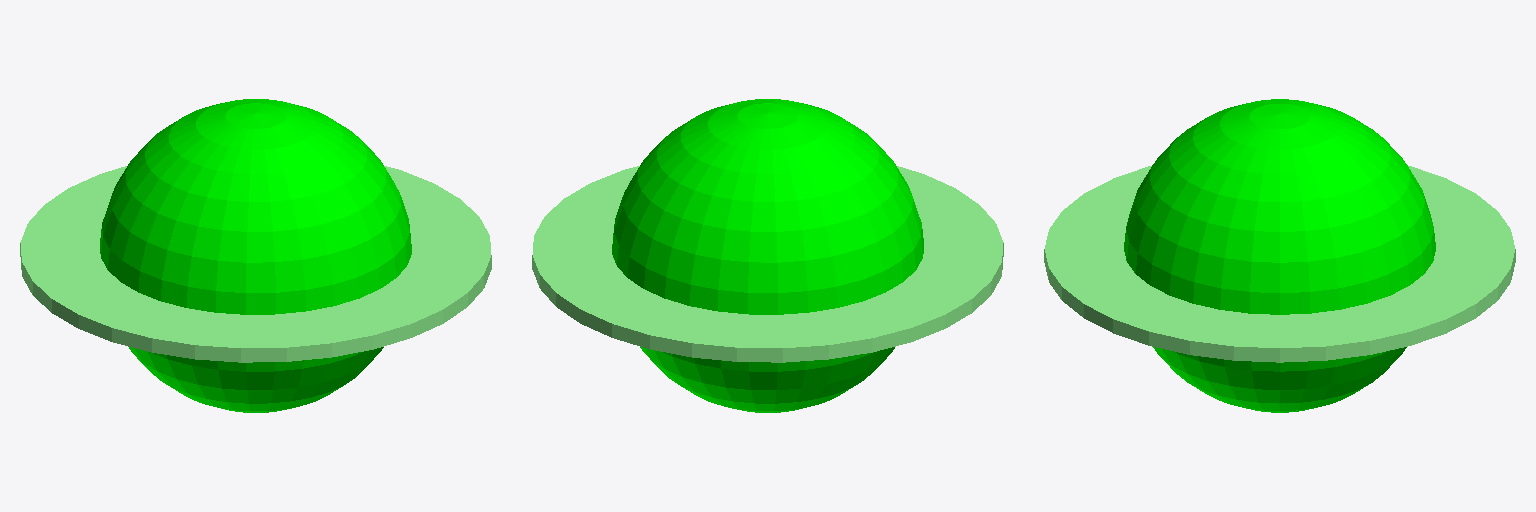
The robot description file, URDF, robot "agv1_robot":
<?xml version="1.0" ?>

<robot name="agv1_robot" xmlns:xacro="http://www.ros.org/wiki/xacro">

    <!-- Định nghĩa các màu sắc cho AGV -->
    <material name="green">
        <color rgba="0 1 0 1"/>
    </material>

    <material name="red">
        <color rgba="1 0 0 1"/>
    </material>

    <material name="blue">
        <color rgba="0 0 1 1"/>
    </material>

    <material name="orange">
        <color rgba="1.0 0.42 0.04 1.0"/>
    </material>

    <material name="palegreen">
        <color rgba="0.596 0.98 0.596 1.0"/>
    </material>

    <material name="skyblue">
        <color rgba="0.53 0.81 0.92 1.0"/>
    </material>    

    <material name="salmonred">
        <color rgba="0.98 0.5 0.447 1.0"/>
    </material>

    <material name="bisque_orange">
        <color rgba="1 0.894 0.767 1.0"/>
    </material>

    <!-- Mô tả AGV1 -->
    <link name="frame_robot">
        <visual>
            <geometry>
                <sphere radius="0.2"/>
            </geometry>

            <material name="green"/>
        </visual>
    </link>
    
    <link name="agv1_safety">
        <visual>
            <geometry>
                <cylinder length="0.02" radius="0.3"/>
            </geometry>

            <material name="palegreen"/>
        </visual>
    </link>

    <joint name="agv1_to_agv1Safety" type="fixed">
        <parent link="frame_robot"/>
        <child link="agv1_safety"/>
        <origin xyz="0 0 0"/>
    </joint>   

</robot>

--- Render facts (derived) ---
Views: 3 orthographic renders of the robot side by side, from view 1: azimuth 30°, elevation 25°; view 2: azimuth 150°, elevation 25°; view 3: azimuth 270°, elevation 25°.
Model agv1_robot with 2 links and 1 joints (1 fixed), rooted at frame_robot, posed every joint at zero.
Visible links, largest first — view 1: frame_robot, agv1_safety; view 2: frame_robot, agv1_safety; view 3: frame_robot, agv1_safety.
Boxes of the visible links, x1,y1,x2,y2 form: frame_robot: [100, 99, 411, 412]; agv1_safety: [20, 166, 491, 362]; frame_robot: [612, 99, 923, 412]; agv1_safety: [532, 166, 1003, 362]; frame_robot: [1124, 99, 1435, 412]; agv1_safety: [1044, 166, 1515, 362].
Size in the robot's own frame: 0.6 by 0.6 by 0.4 metres.
Geometry: primitives only (box / cylinder / sphere), no mesh files.
